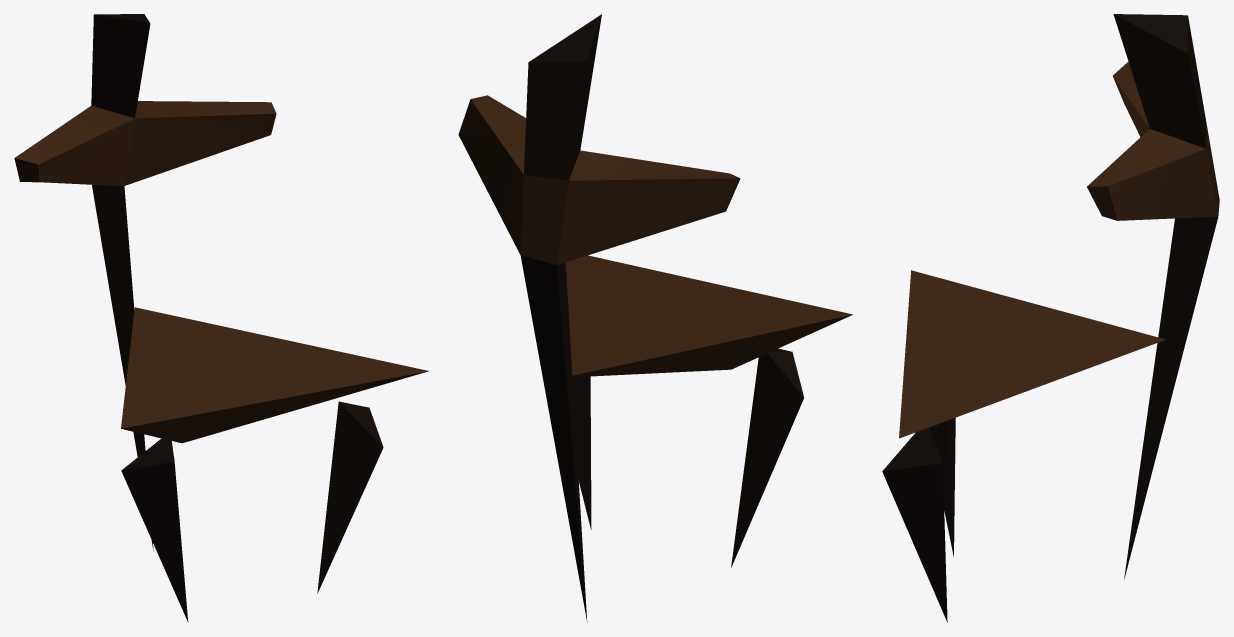
File: c_furniture_chair_wood_aa.fbx
3 views of the same model, side by side, from view 1: azimuth 30°, elevation 25°; view 2: azimuth 150°, elevation 25°; view 3: azimuth 270°, elevation 25° (orthographic). The views are drawn at different scales.
Parts seen in each view (by area): view 1: c_furniture_chair_wood_aa; view 2: c_furniture_chair_wood_aa; view 3: c_furniture_chair_wood_aa.
Boxes of the visible parts, x1=… form: c_furniture_chair_wood_aa: x1=14, y1=14, x2=428, y2=622; c_furniture_chair_wood_aa: x1=458, y1=14, x2=852, y2=621; c_furniture_chair_wood_aa: x1=882, y1=14, x2=1219, y2=622.
Bounding box in the file's own units: 0.7844 × 1.31 × 0.71.
